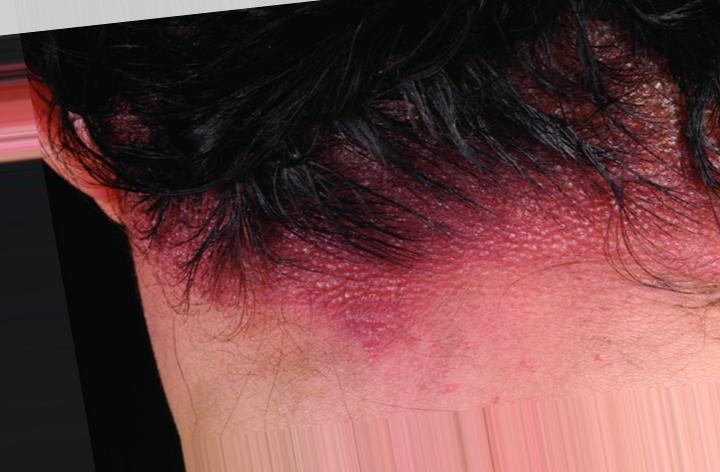Contact Dermatitis: (119, 116, 708, 318)
